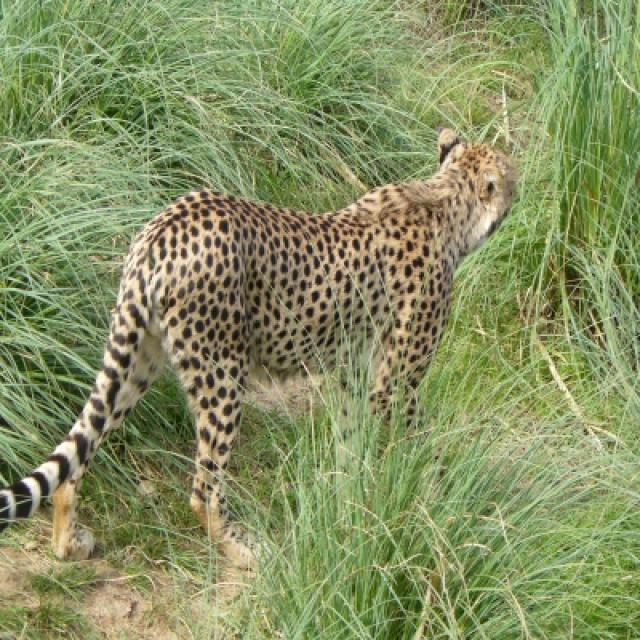Cheetah: (0, 128, 520, 575)
